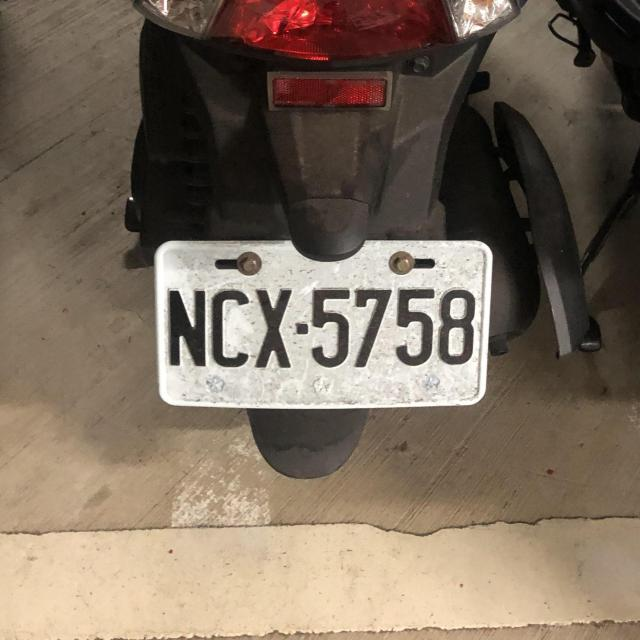W: (146, 233, 499, 414)
